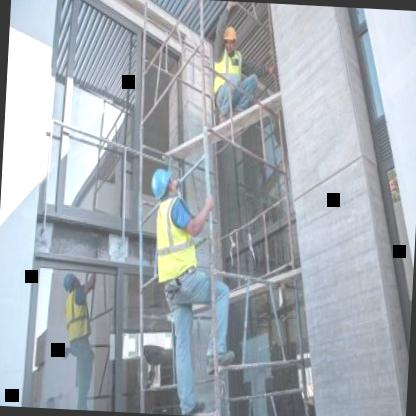helmet: (148, 166, 180, 204), (219, 20, 243, 58), (58, 270, 88, 296)
